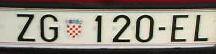-: (158, 27, 166, 31)
0: (135, 14, 154, 43)
1: (94, 15, 102, 43)
2: (112, 14, 132, 44)
E: (170, 14, 188, 42)
G: (40, 14, 58, 42)
L: (194, 15, 209, 42)
Z: (16, 13, 36, 43)
